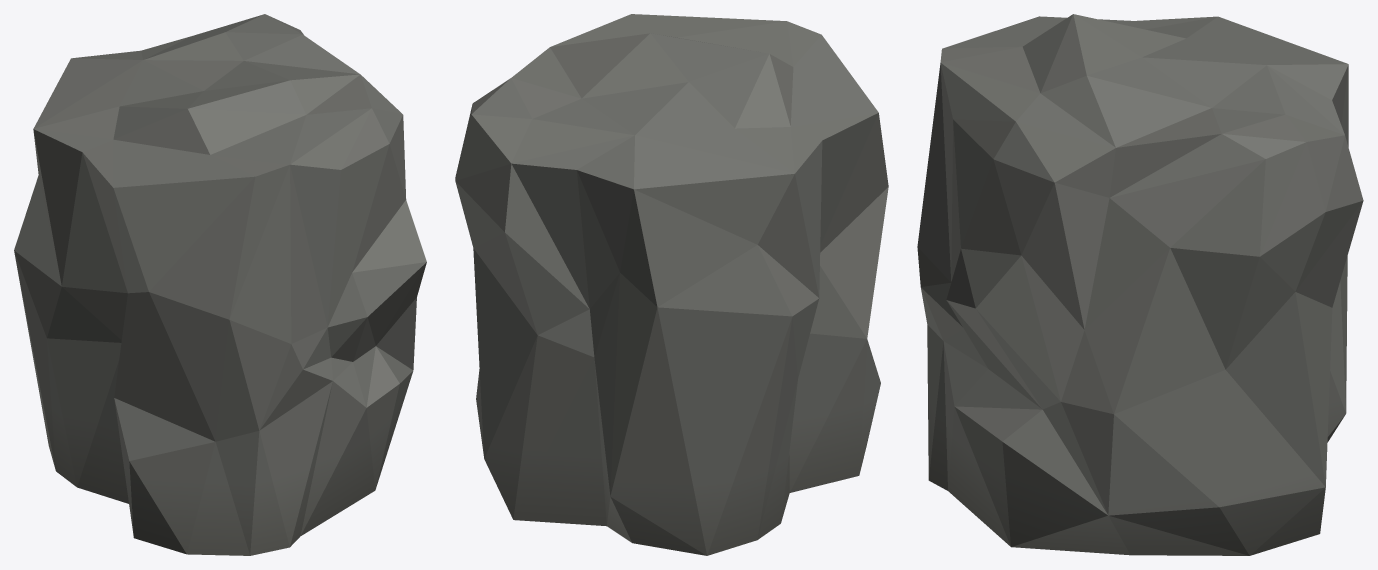
File: um_rock008.FBX
The picture shows the model from 3 angles, left to right: view 1: azimuth 30°, elevation 25°; view 2: azimuth 150°, elevation 25°; view 3: azimuth 270°, elevation 25°; orthographic projection. The views are drawn at different scales.
Visible parts, largest first — view 1: um_rock002; view 2: um_rock002; view 3: um_rock002.
Part boxes in pixels (x1,y1,x2,y2): um_rock002: (14,14,426,555); um_rock002: (455,14,888,555); um_rock002: (917,14,1363,555).
Bounding box in the file's own units: 11.67 × 13.04 × 11.81.
